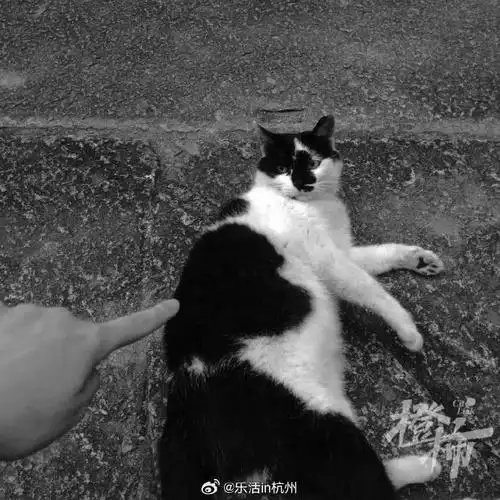奶牛猫: (226, 115, 441, 350)
